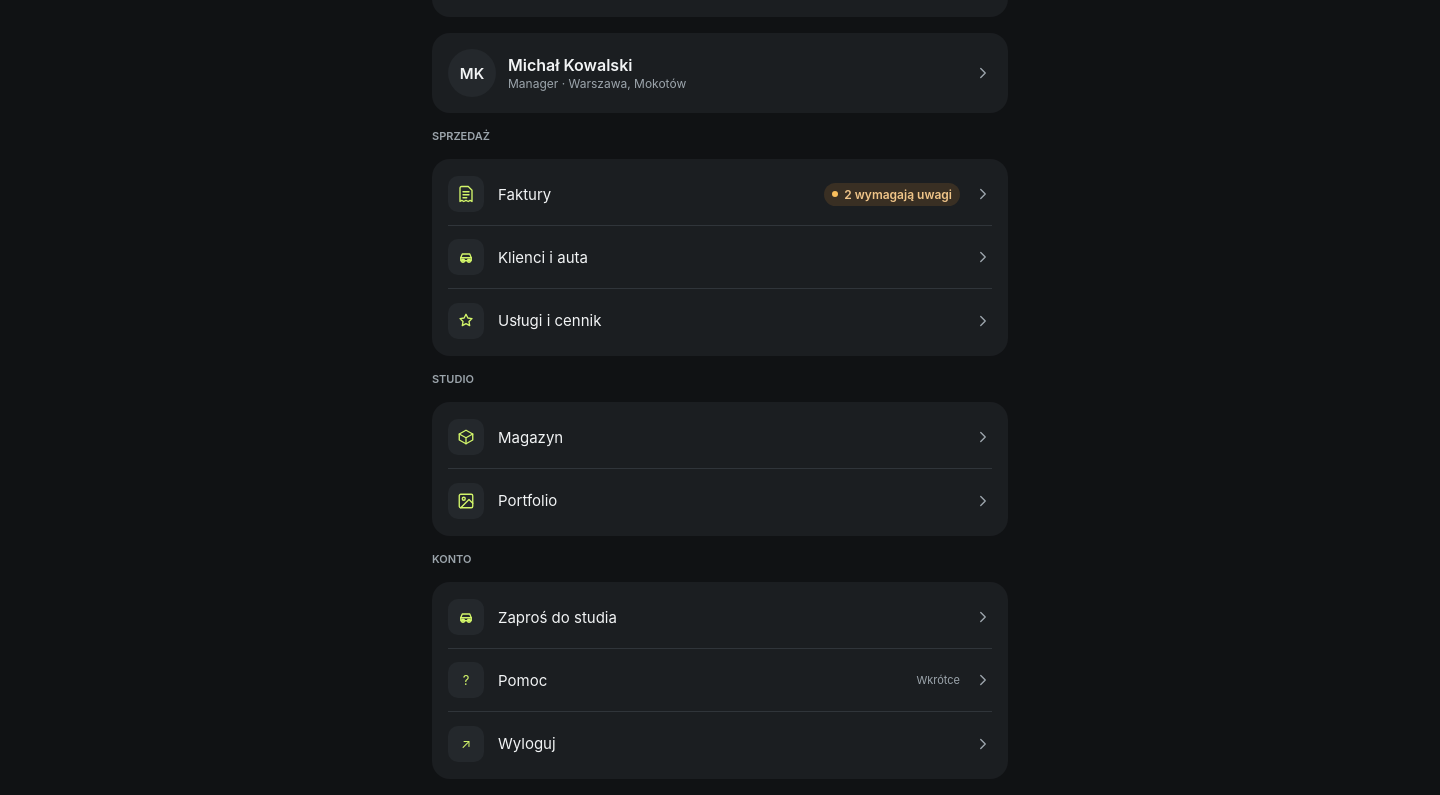
it: links existing modules, displays attention and keeps future modules inside a notice
(page scrolled)
Click the button "? Pomoc Wkrótce" at (466, 680), box x1=448 y1=649 x2=992 y2=712
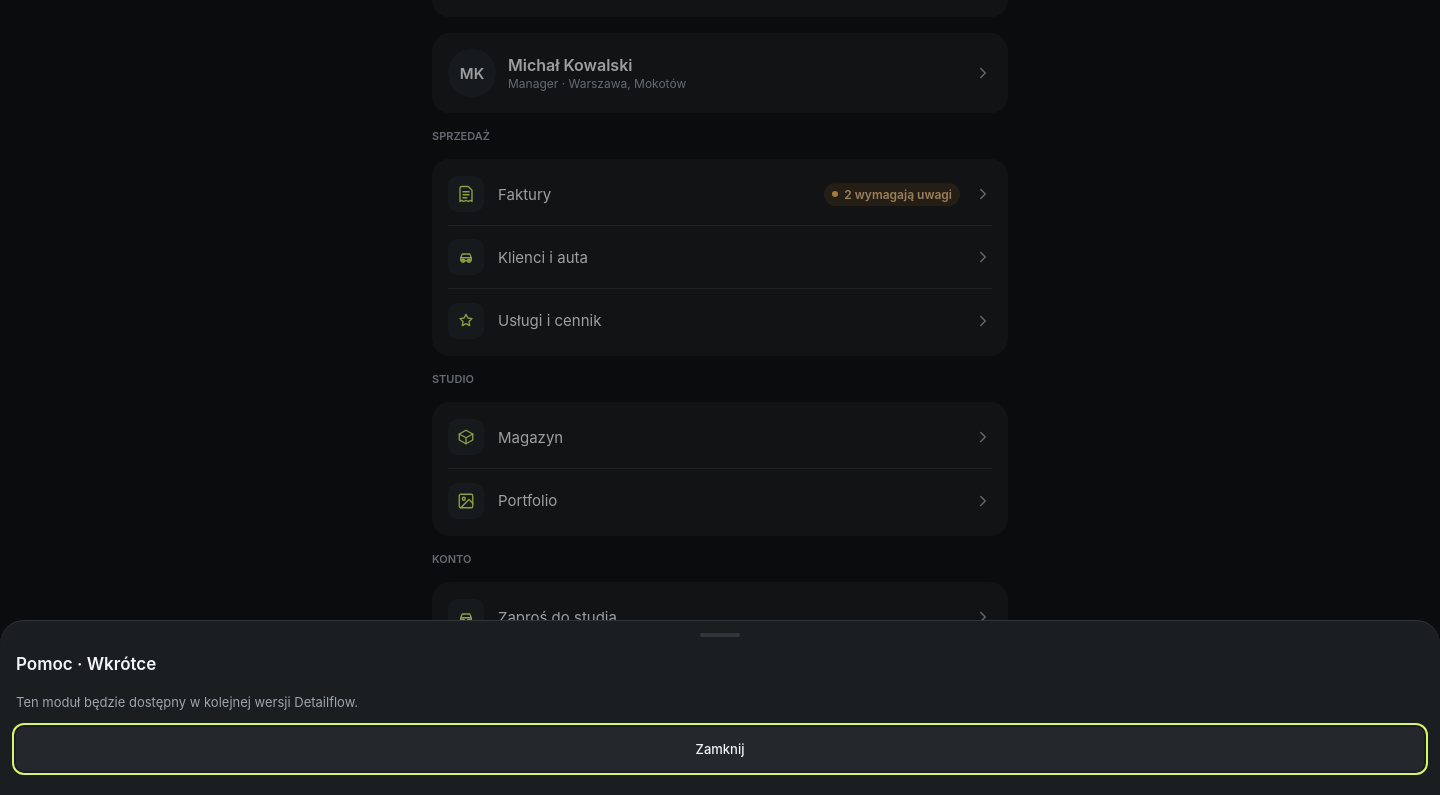
Now the dialog "Pomoc · Wkrótce" is shown, box x1=0 y1=620 x2=1439 y2=794
